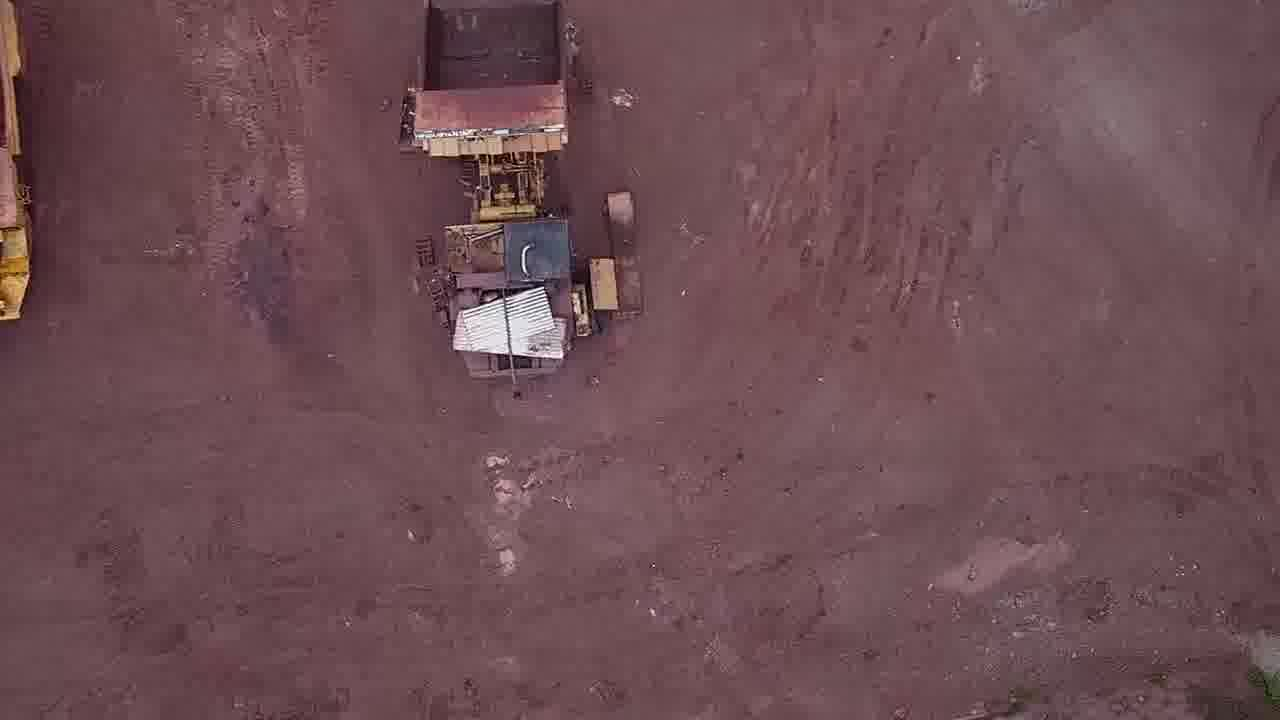heavy_motor_vehicle: (396, 1, 647, 385)
